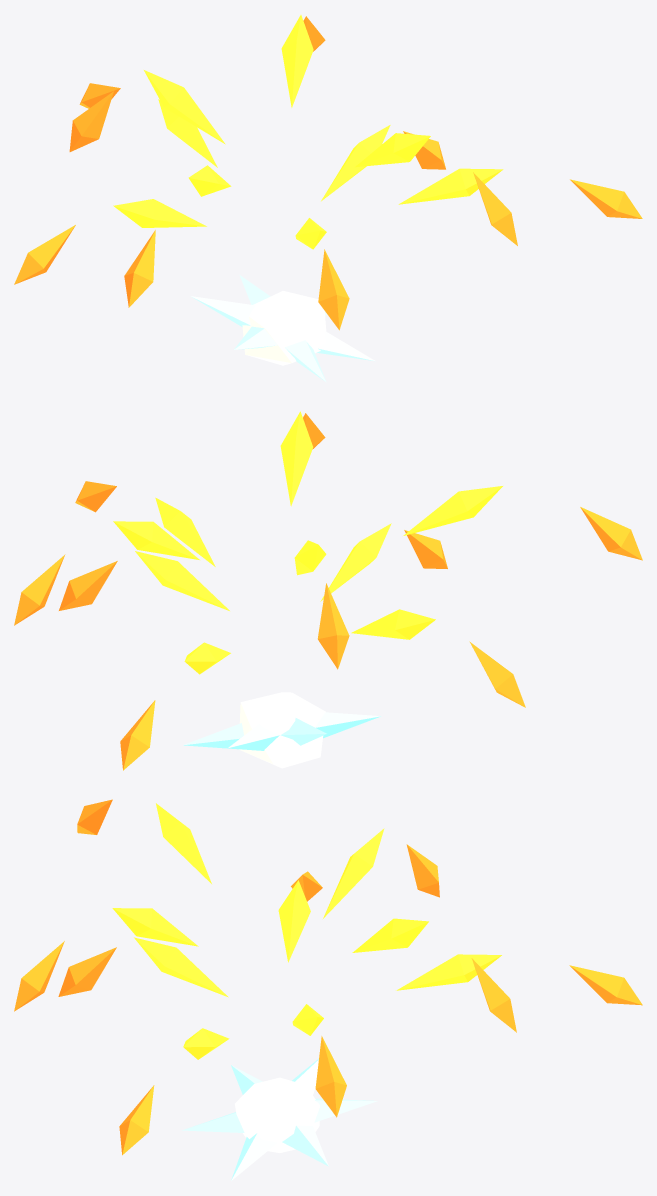
File: fx_sparks_welding_burst.glb
3 renders of one model, top to bottom at view 1: azimuth 30°, elevation 25°; view 2: azimuth 150°, elevation 25°; view 3: azimuth 270°, elevation 25°, orthographic.
Parts seen in each view (by area): view 1: fx_sparks_welding_burst_spark_gold, fx_sparks_welding_burst_spark_orange, fx_sparks_welding_burst_weld_white, fx_sparks_welding_burst_weld_arc; view 2: fx_sparks_welding_burst_spark_gold, fx_sparks_welding_burst_spark_orange, fx_sparks_welding_burst_weld_white, fx_sparks_welding_burst_weld_arc; view 3: fx_sparks_welding_burst_spark_gold, fx_sparks_welding_burst_spark_orange, fx_sparks_welding_burst_weld_white, fx_sparks_welding_burst_weld_arc.
Boxes of the visible parts, x1,y1,x2,y2 form: fx_sparks_welding_burst_spark_gold: (113, 15, 503, 249); fx_sparks_welding_burst_spark_orange: (14, 16, 642, 330); fx_sparks_welding_burst_weld_white: (242, 291, 326, 365); fx_sparks_welding_burst_weld_arc: (190, 275, 375, 382); fx_sparks_welding_burst_spark_gold: (113, 411, 502, 674); fx_sparks_welding_burst_spark_orange: (14, 413, 642, 770); fx_sparks_welding_burst_weld_white: (239, 692, 325, 768); fx_sparks_welding_burst_weld_arc: (183, 712, 381, 750); fx_sparks_welding_burst_spark_gold: (112, 803, 501, 1059); fx_sparks_welding_burst_spark_orange: (14, 799, 642, 1155); fx_sparks_welding_burst_weld_white: (235, 1077, 319, 1152); fx_sparks_welding_burst_weld_arc: (182, 1058, 377, 1180).
Bounding box in the file's own units: 0.9954 × 0.4958 × 1.
